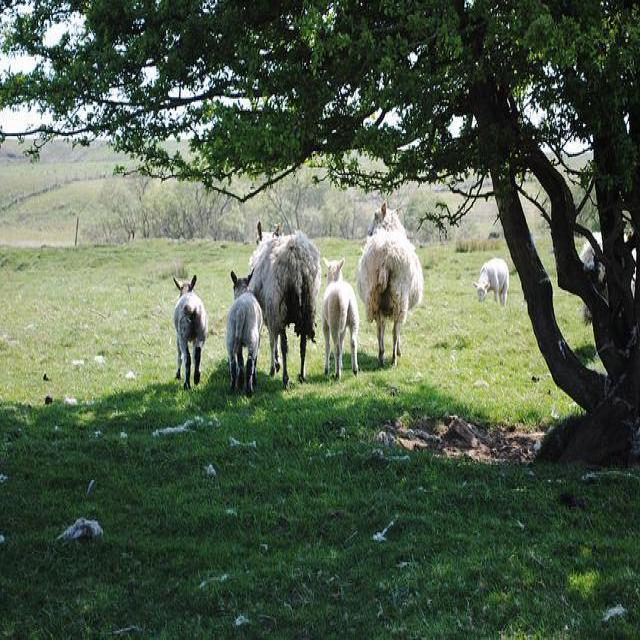Sheep: (248, 218, 323, 394), (358, 200, 422, 368), (227, 271, 263, 396), (323, 259, 359, 380), (174, 272, 209, 389)
